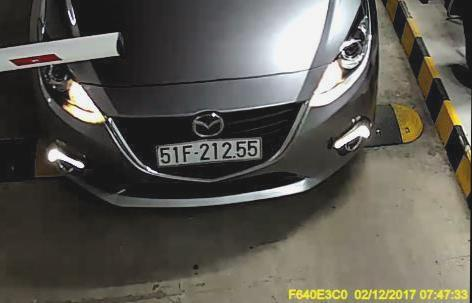License_Plate: (156, 138, 261, 166)
